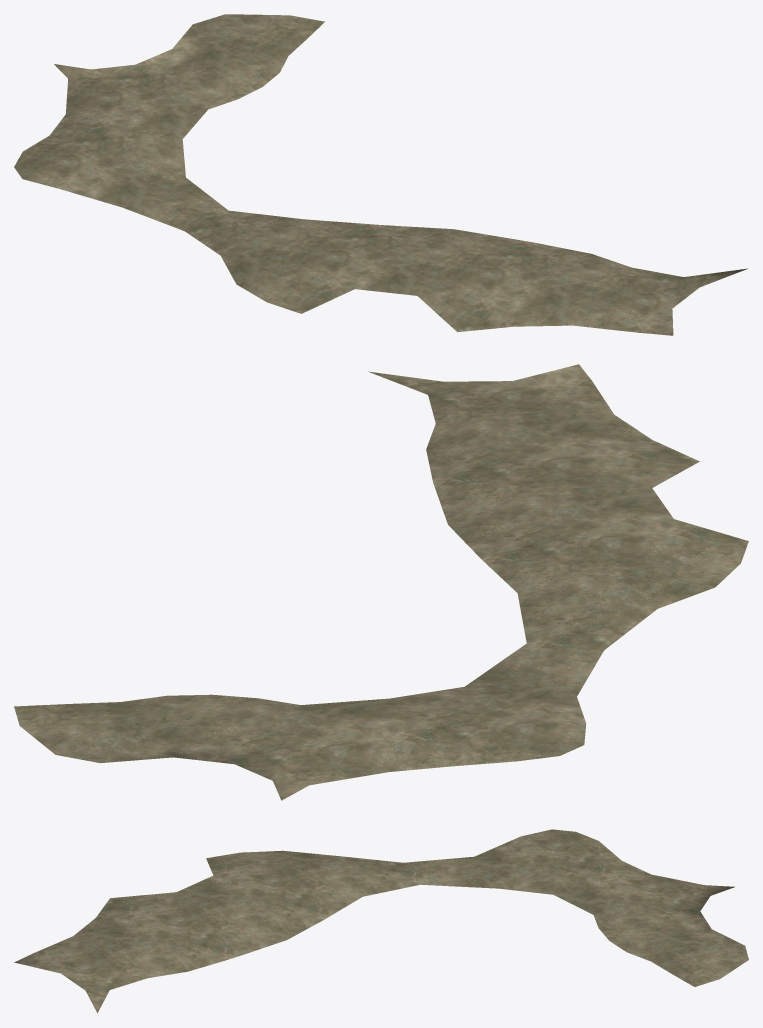
The model's file is EKH_CAVERNS_PS_CA_SAND_BAR_8574.fbx.
3 renders of one model, top to bottom at view 1: azimuth 30°, elevation 25°; view 2: azimuth 150°, elevation 25°; view 3: azimuth 270°, elevation 25°, orthographic. The views are drawn at different scales.
Visible parts, largest first — view 1: EKH_CAVERNS_PS_CA_SAND_BAR_8574; view 2: EKH_CAVERNS_PS_CA_SAND_BAR_8574; view 3: EKH_CAVERNS_PS_CA_SAND_BAR_8574.
Boxes of the visible parts, bbox=[...] form: EKH_CAVERNS_PS_CA_SAND_BAR_8574: bbox=[14, 14, 747, 335]; EKH_CAVERNS_PS_CA_SAND_BAR_8574: bbox=[14, 364, 748, 800]; EKH_CAVERNS_PS_CA_SAND_BAR_8574: bbox=[14, 829, 748, 1013].
Bounding box in the file's own units: 146670 × 5327 × 247405.
1 material, 1 textured.
